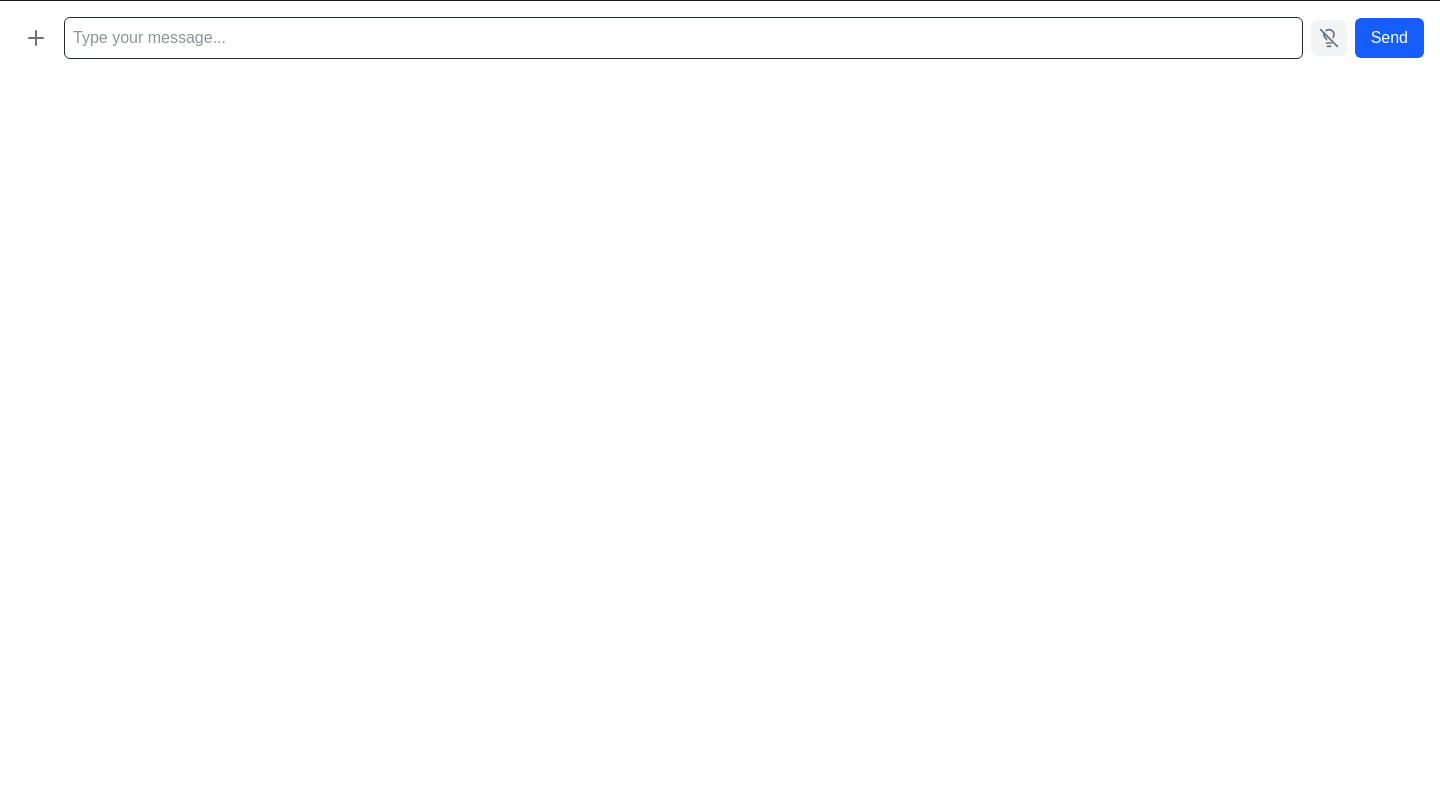
Test: ChatInput Component › should intercept submission with PII modal for emails
In the field with placeholder "Type your message...": (683, 38) [64, 17, 1303, 59], type "My email is test@example.com"
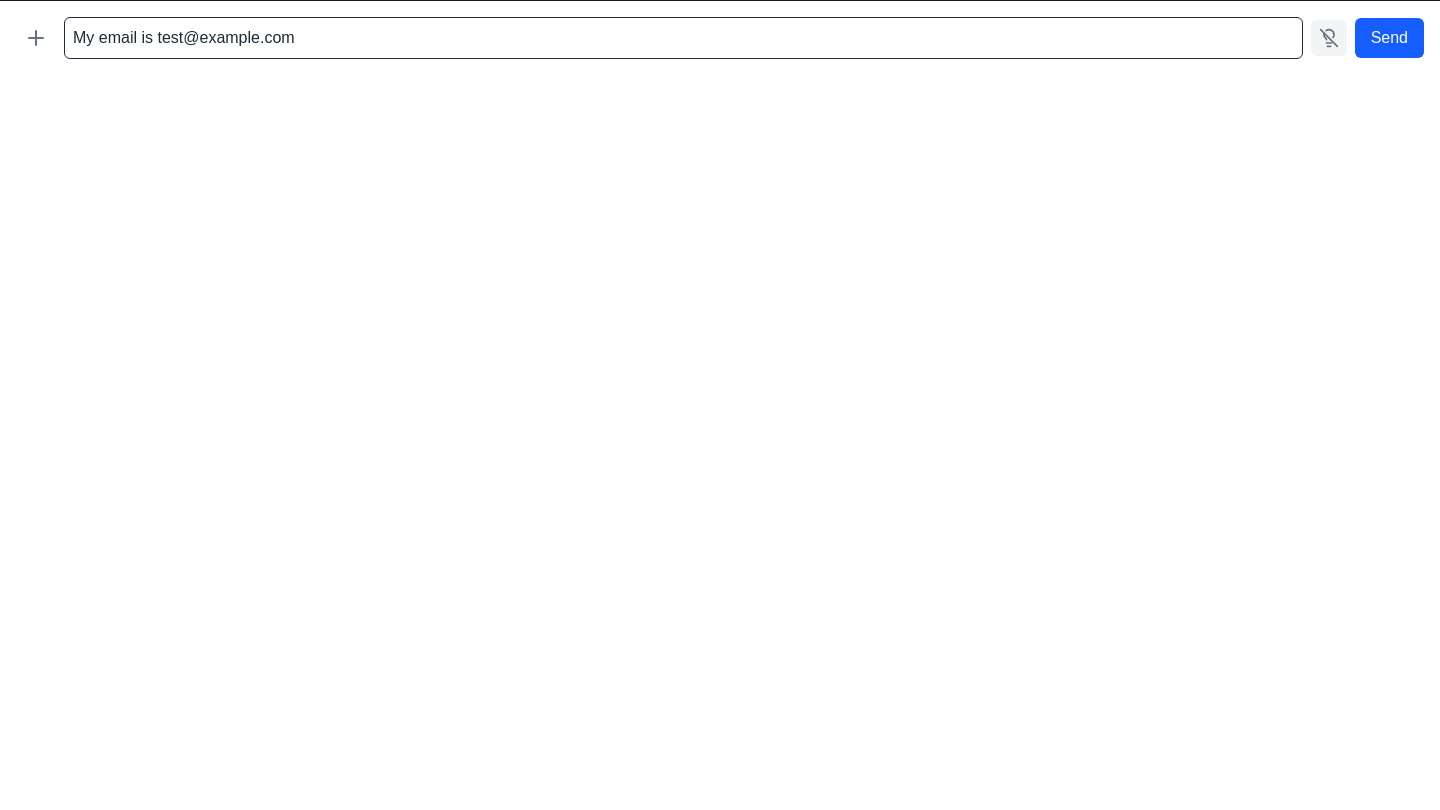
Submit the form with placeholder "type your message", box [0, 0, 1439, 75]
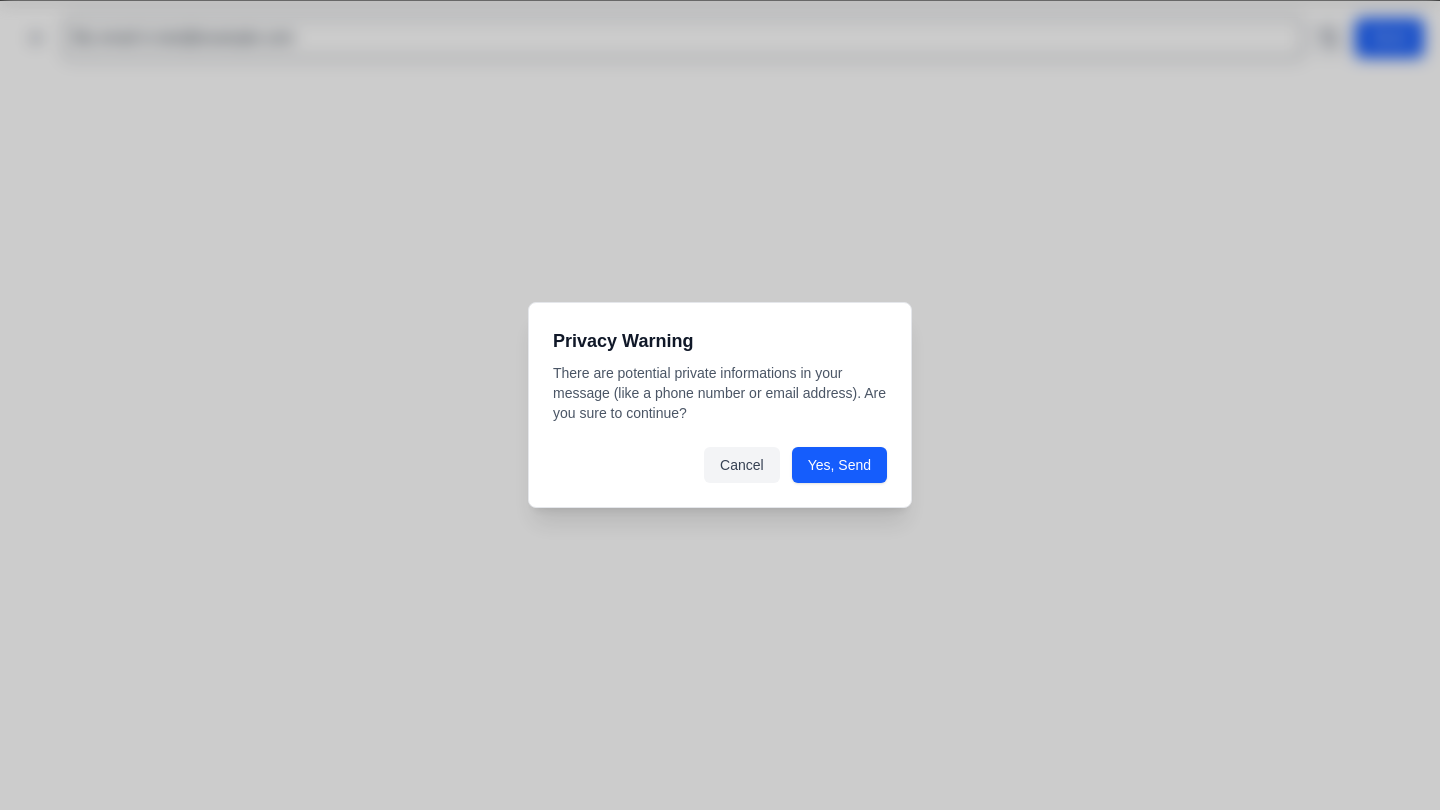
Check: the heading "Privacy Warning" is shown, box [553, 331, 693, 351]
